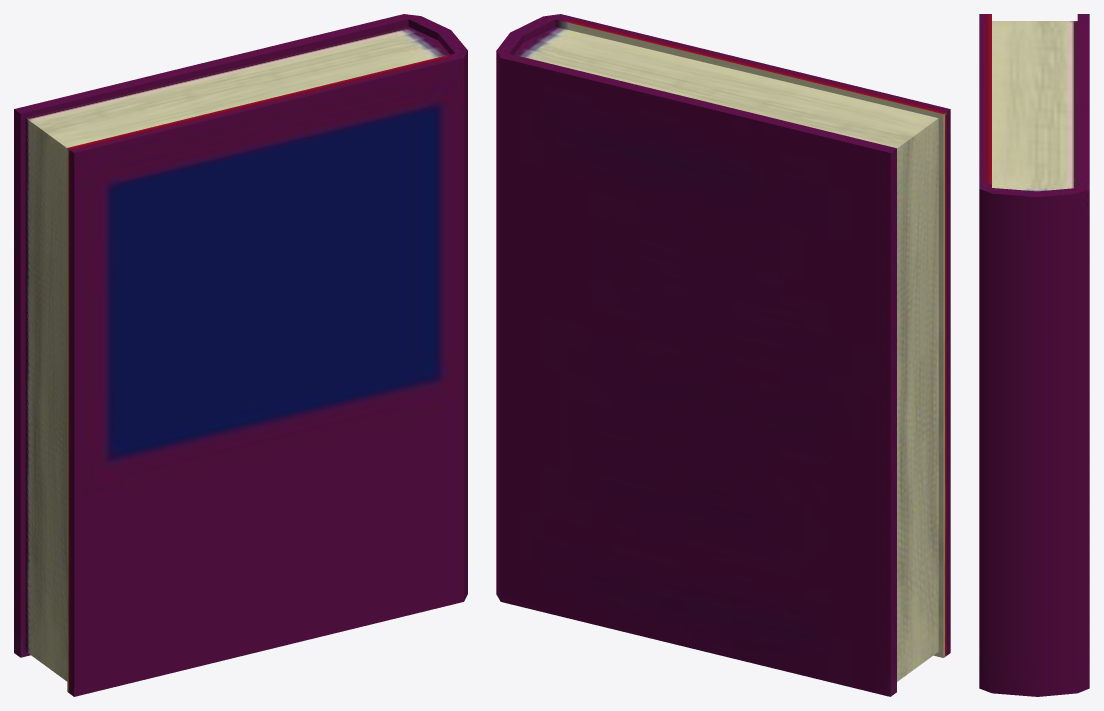
The model's file is libro singolo.FBX.
The picture shows the model from 3 angles, left to right: view 1: azimuth 30°, elevation 25°; view 2: azimuth 150°, elevation 25°; view 3: azimuth 270°, elevation 25°; orthographic projection. The views are drawn at different scales.
Visible parts, largest first — view 1: libro singolo; view 2: libro singolo; view 3: libro singolo.
Part boxes in pixels (x1,y1,x2,y2): libro singolo: (14,14,467,696); libro singolo: (496,14,950,696); libro singolo: (979,14,1089,696).
Bounding box in the file's own units: 0.2528 × 0.3215 × 0.0643.
